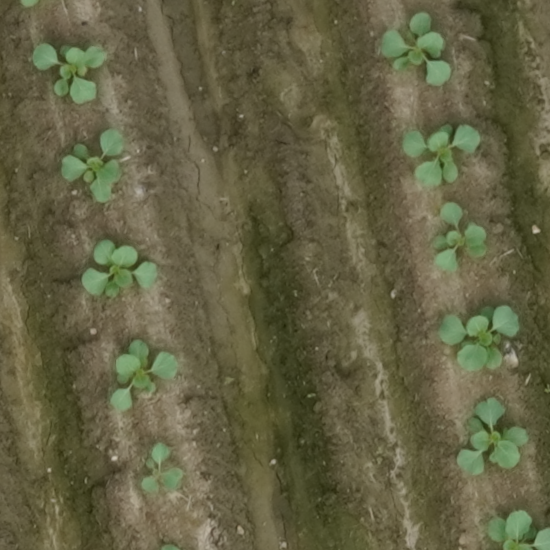Cabbage: (438, 304, 519, 373), (457, 397, 528, 475), (402, 123, 481, 188), (382, 12, 450, 85), (109, 340, 176, 411), (31, 44, 105, 105), (62, 130, 124, 202), (82, 239, 158, 297), (431, 203, 487, 272), (137, 442, 184, 494), (487, 512, 550, 550)
